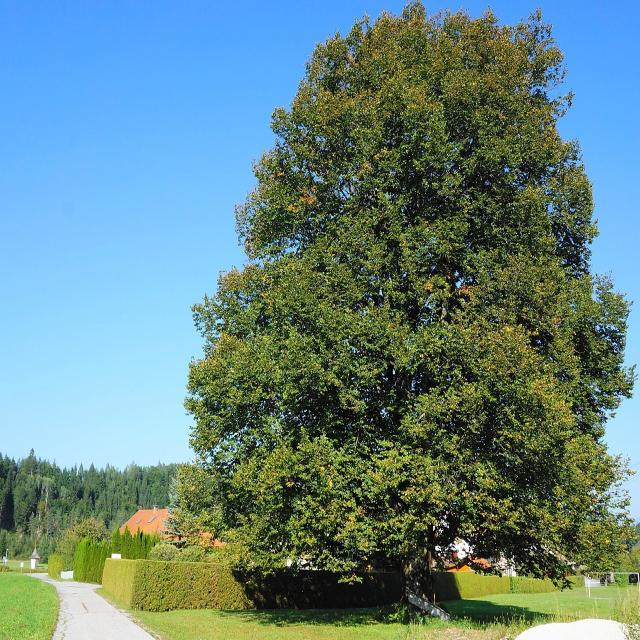olmo: (177, 14, 632, 609)
